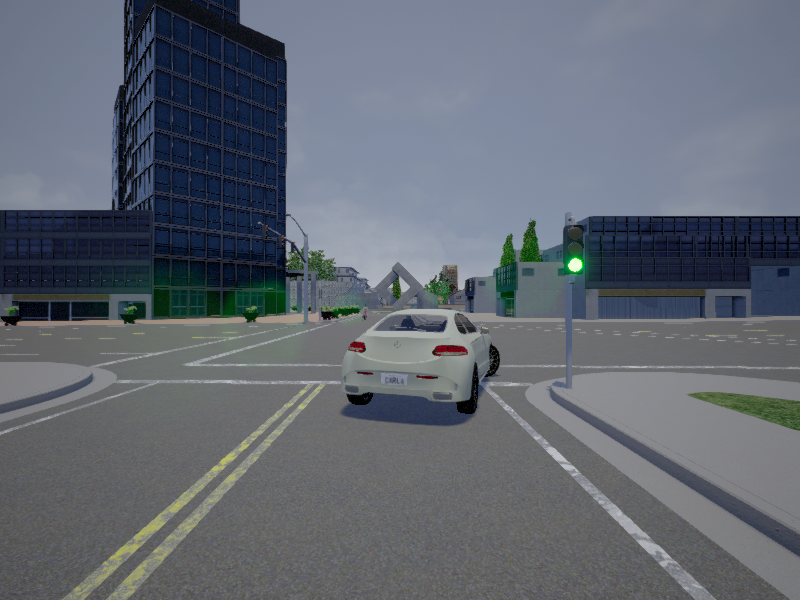Benign: (342, 307, 501, 413)
